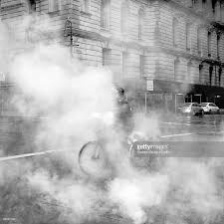smoke: (17, 52, 221, 224)
